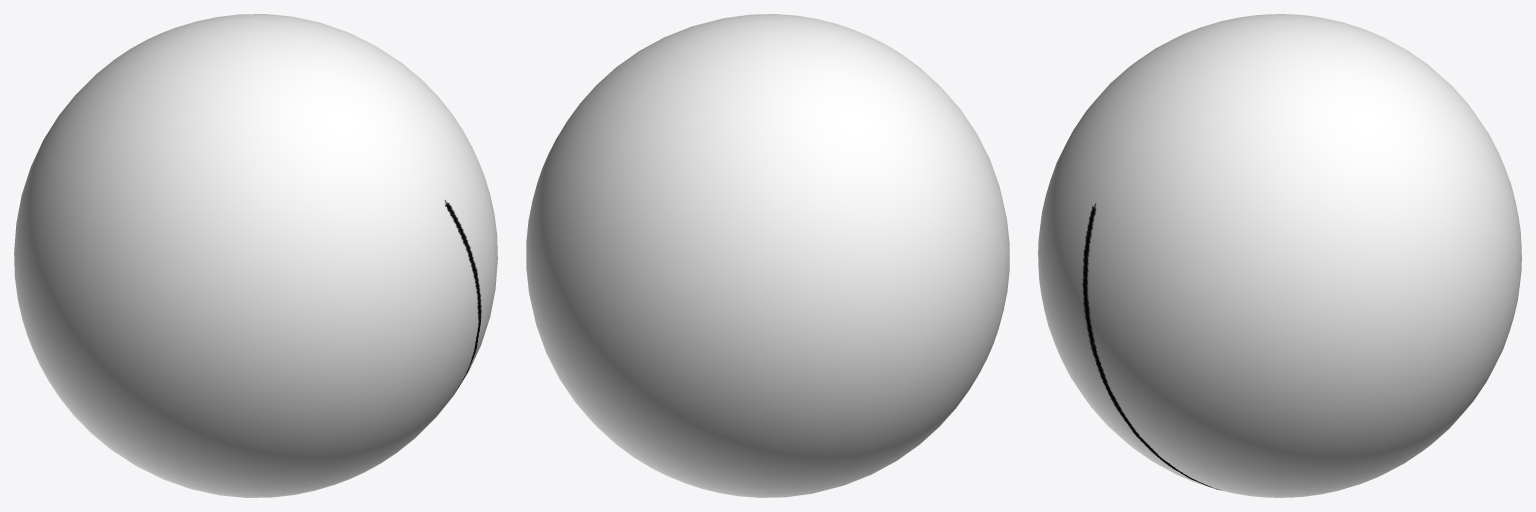
The model's file is ball.fbx.
3 renders of one model, left to right at view 1: azimuth 30°, elevation 25°; view 2: azimuth 150°, elevation 25°; view 3: azimuth 270°, elevation 25°, orthographic.
Visible parts, largest first — view 1: root; view 2: root; view 3: root.
Boxes of the visible parts, x1,y1,x2,y2 form: root: [14, 14, 497, 497]; root: [526, 14, 1009, 497]; root: [1038, 14, 1521, 497].
Bounding box in the file's own units: 0.1999 × 0.1998 × 0.1999.
1 material, 1 textured.
